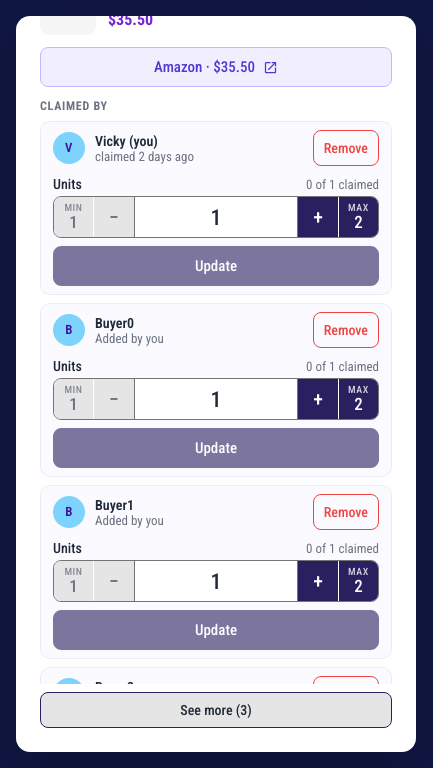
Test: PurchaseModalSlot › ManageView › SeeMoreClick_RevealsNextBatch-RemovesExhaustedControl
(page scrolled)
Click the button "See more (3)" at {"x": 216, "y": 710}, box [40,692,392,728]
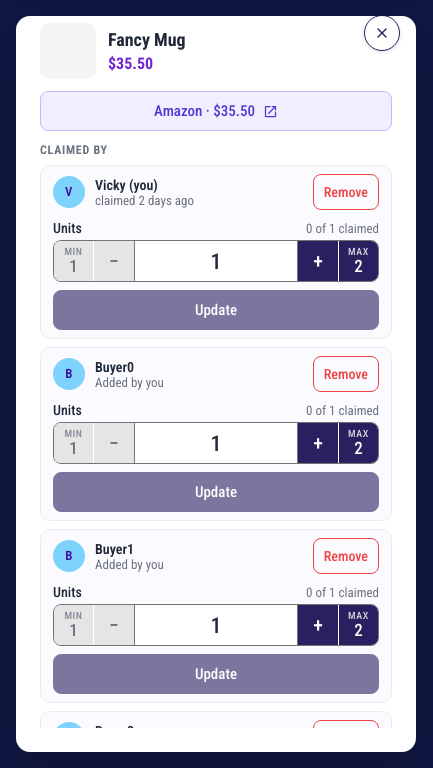
Result: the button "See more" is gone
